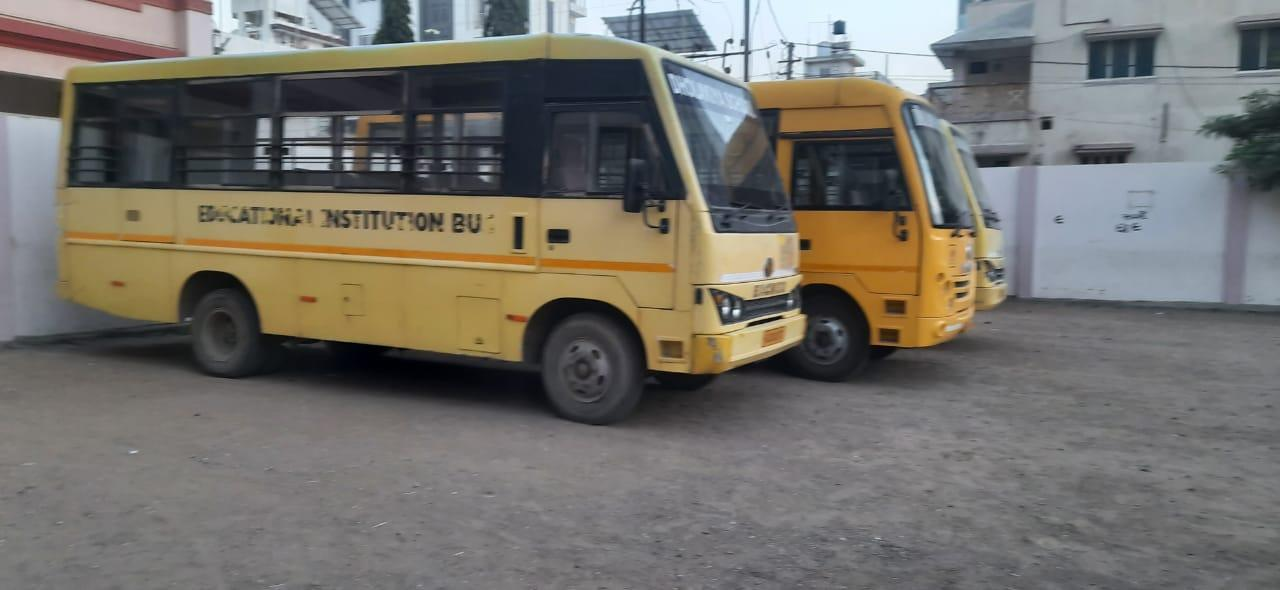Bus: (53, 38, 805, 442), (774, 74, 985, 400), (968, 118, 1026, 338)
